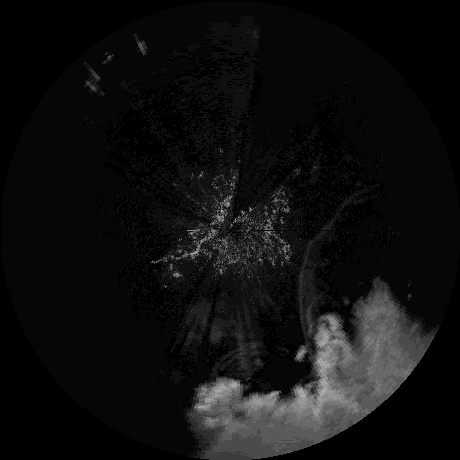frontgust: (295, 240, 312, 344)
